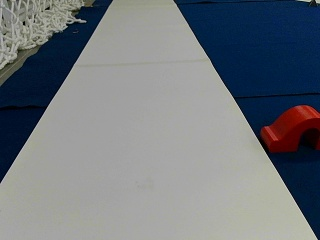bridge: (261, 104, 318, 149)
